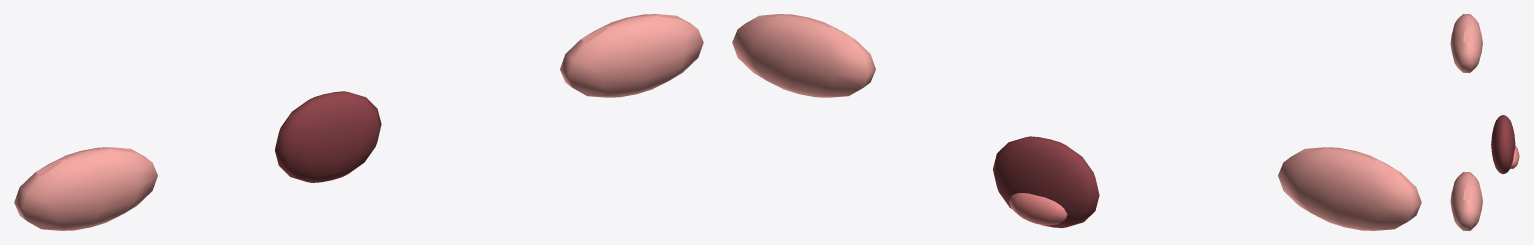
The model's file is Face_Open.fbx.
The picture shows the model from 3 angles, left to right: view 1: azimuth 30°, elevation 25°; view 2: azimuth 150°, elevation 25°; view 3: azimuth 270°, elevation 25°; orthographic projection. The views are drawn at different scales.
Parts seen in each view (by area): view 1: Cheek, Cheek.001, Mouth; view 2: Cheek, Cheek.001, Mouth, Mouth_Tongue; view 3: Cheek, Cheek.001, Mouth, Mouth_Tongue.
Part boxes in pixels (bbox=[...]): Cheek: bbox=[560, 14, 703, 97]; Cheek.001: bbox=[14, 147, 157, 230]; Mouth: bbox=[275, 91, 381, 182]; Cheek: bbox=[732, 14, 875, 97]; Cheek.001: bbox=[1278, 147, 1421, 230]; Mouth: bbox=[993, 136, 1099, 228]; Mouth_Tongue: bbox=[1009, 193, 1067, 225]; Cheek: bbox=[1450, 172, 1482, 230]; Cheek.001: bbox=[1450, 14, 1482, 72]; Mouth: bbox=[1491, 115, 1515, 174]; Mouth_Tongue: bbox=[1510, 146, 1519, 168].
Bounding box in the file's own units: 57.41 × 9.5 × 8.5.
